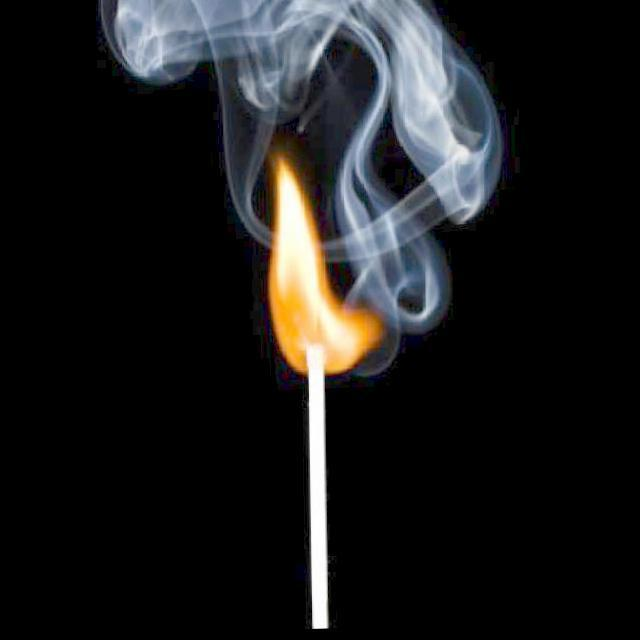Fire: (250, 169, 384, 406)
Smoke: (117, 0, 506, 338)
